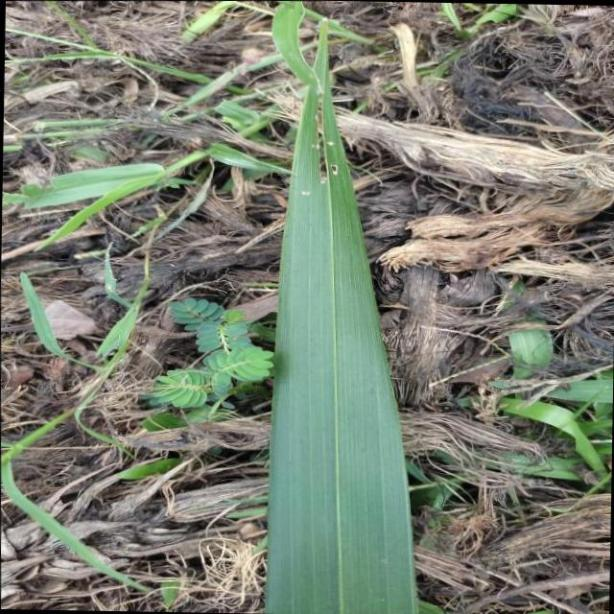Boron: (267, 11, 419, 614)
